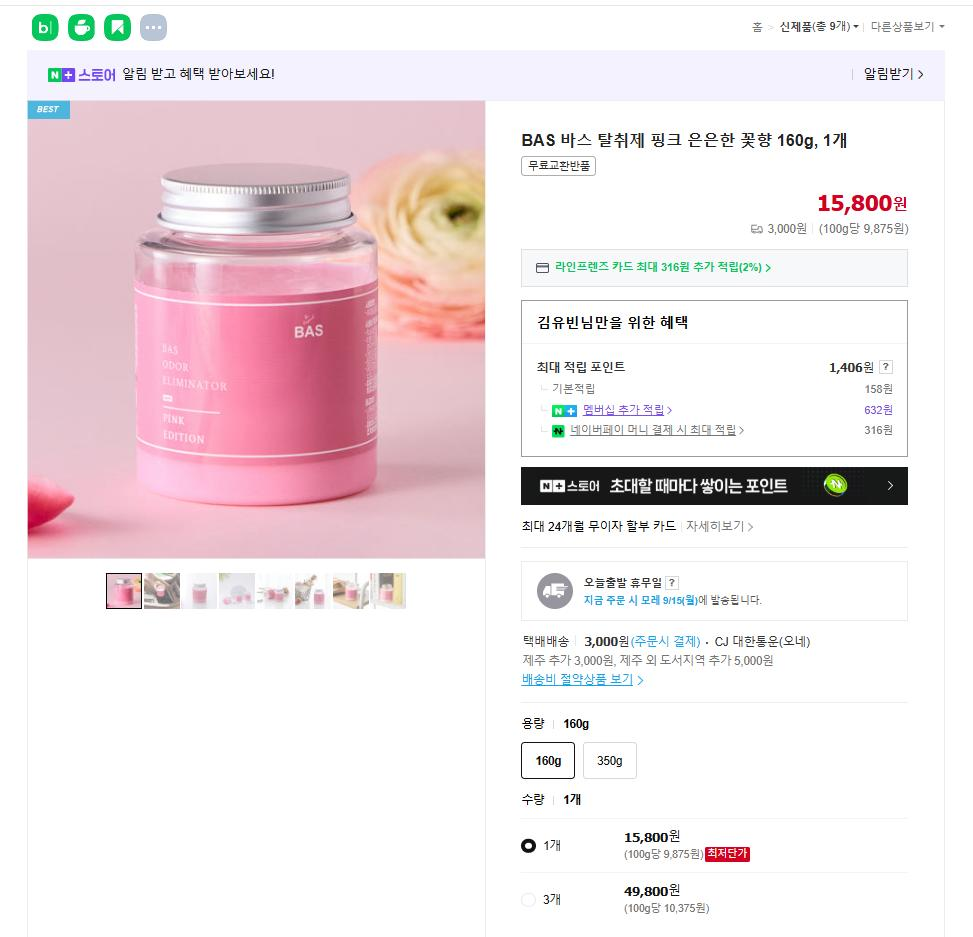button: (514, 467, 919, 504), (524, 739, 579, 777), (521, 673, 649, 689), (589, 736, 639, 773), (103, 571, 143, 614), (866, 67, 930, 90), (686, 517, 763, 536), (216, 577, 257, 609), (333, 571, 363, 609), (97, 10, 130, 43), (290, 570, 320, 606), (144, 577, 179, 606), (257, 574, 286, 607), (383, 573, 410, 604), (181, 576, 210, 604), (30, 11, 57, 40), (76, 16, 96, 39), (143, 16, 167, 33)
checkbox: (520, 834, 574, 856), (516, 887, 554, 906)
